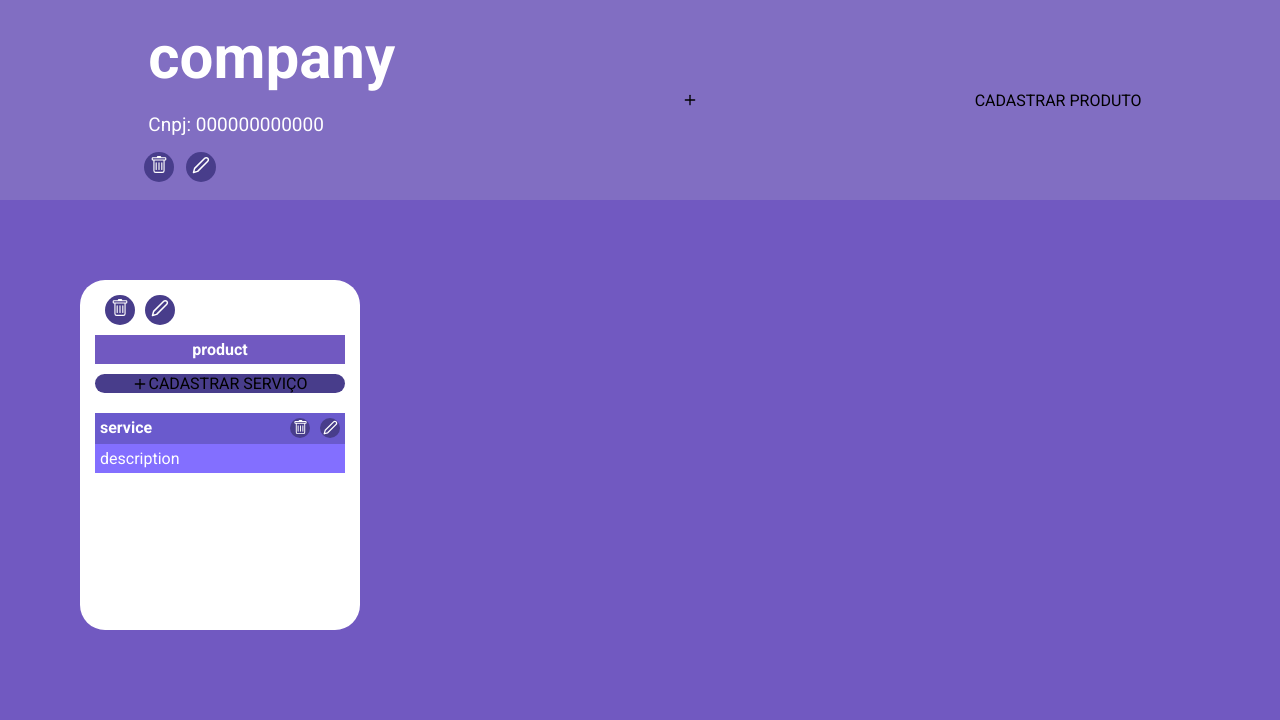
Test case: Dashboard › ServiceUpdate › should be able to open ServiceUpdate
This screenshot has width=1280, height=720.
What coordinates should you click on to do the following:
click the 6th button
I would click on:
 (330, 428)
Its box is [320,418,340,438].
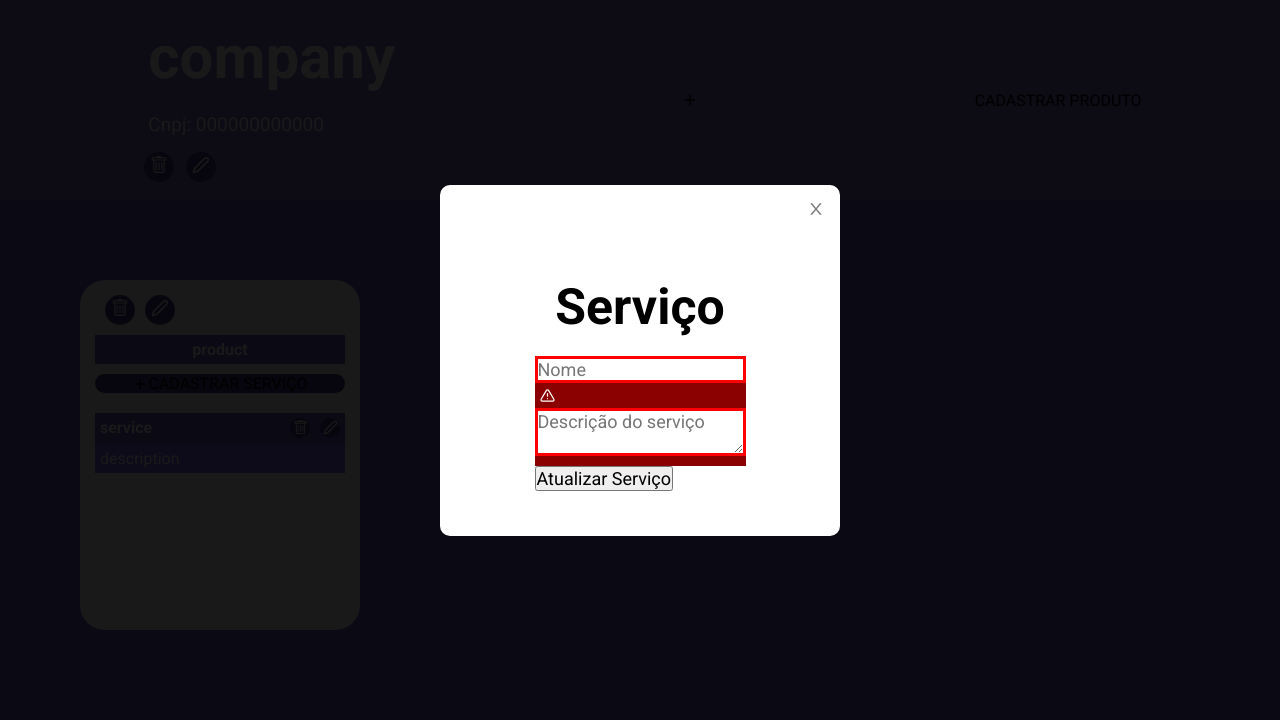
Expected: the element showing "Serviço Atualizar Serviço" is shown
